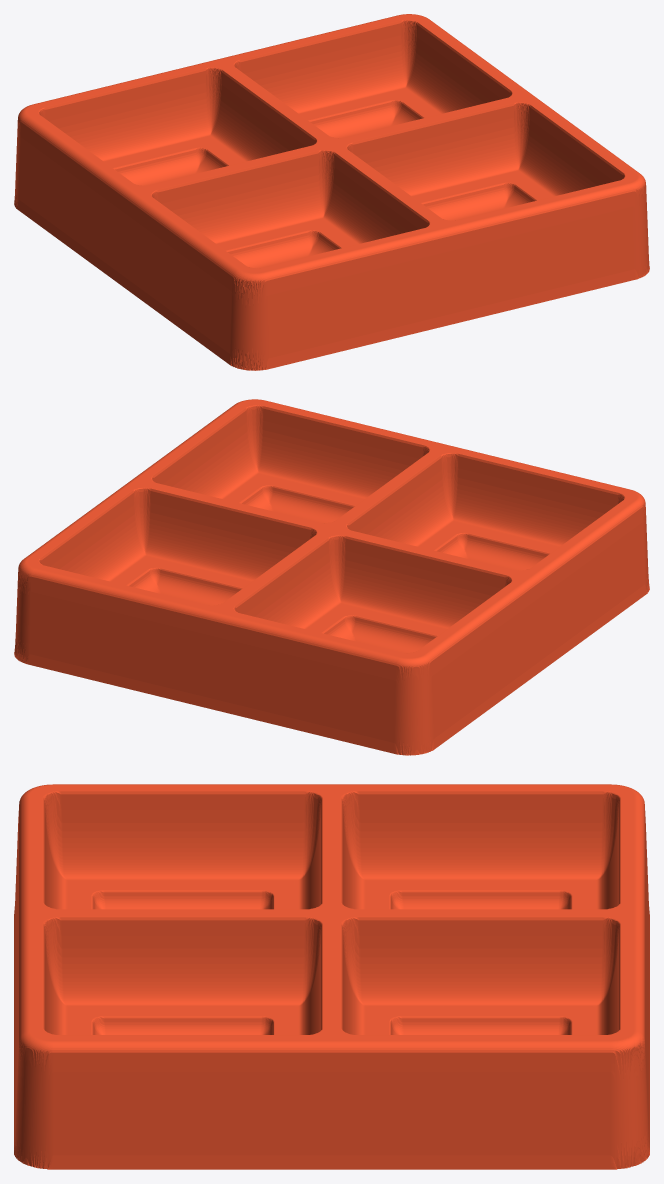
File: mold.glb
3 views of the same model, one above another, from view 1: azimuth 30°, elevation 25°; view 2: azimuth 150°, elevation 25°; view 3: azimuth 270°, elevation 25° (orthographic). The views are drawn at different scales.
Visible parts, largest first — view 1: geometry_0; view 2: geometry_0; view 3: geometry_0.
Boxes of the visible parts, bbox=[...] form: geometry_0: bbox=[14, 14, 649, 370]; geometry_0: bbox=[14, 399, 649, 755]; geometry_0: bbox=[14, 784, 649, 1169].
Bounding box in the file's own units: 0.1466 × 0.031 × 0.1466.
